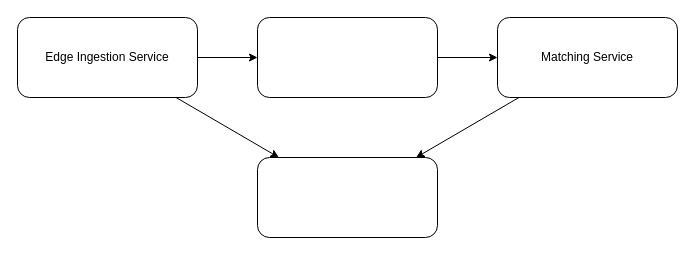
The diagram is 695 pixels wide and 255 high, and some of its shapes have lost their labels. Here are the shapes that lost their labels. From the top down, the box of each, then its label:
(256, 16, 438, 98): Node Upsert Service
(256, 156, 438, 238): Persistence Adapter
